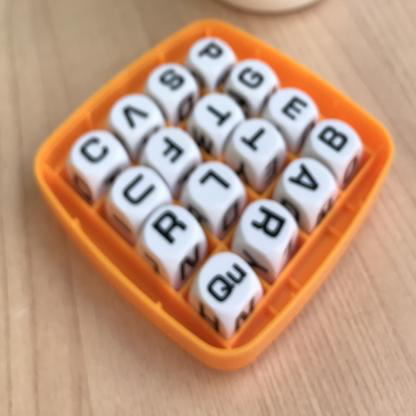a: (284, 160, 325, 200)
b: (314, 120, 355, 159)
c: (75, 134, 115, 169)
e: (274, 89, 315, 125)
f: (159, 129, 190, 171)
g: (236, 61, 272, 96)
l: (195, 159, 235, 206)
p: (196, 36, 229, 70)
q: (206, 260, 252, 306)
r: (143, 207, 197, 249), (246, 199, 289, 249)
s: (150, 61, 190, 97)
t: (201, 98, 240, 137), (235, 121, 272, 158)
u: (121, 172, 162, 209)
v: (119, 101, 154, 132)
